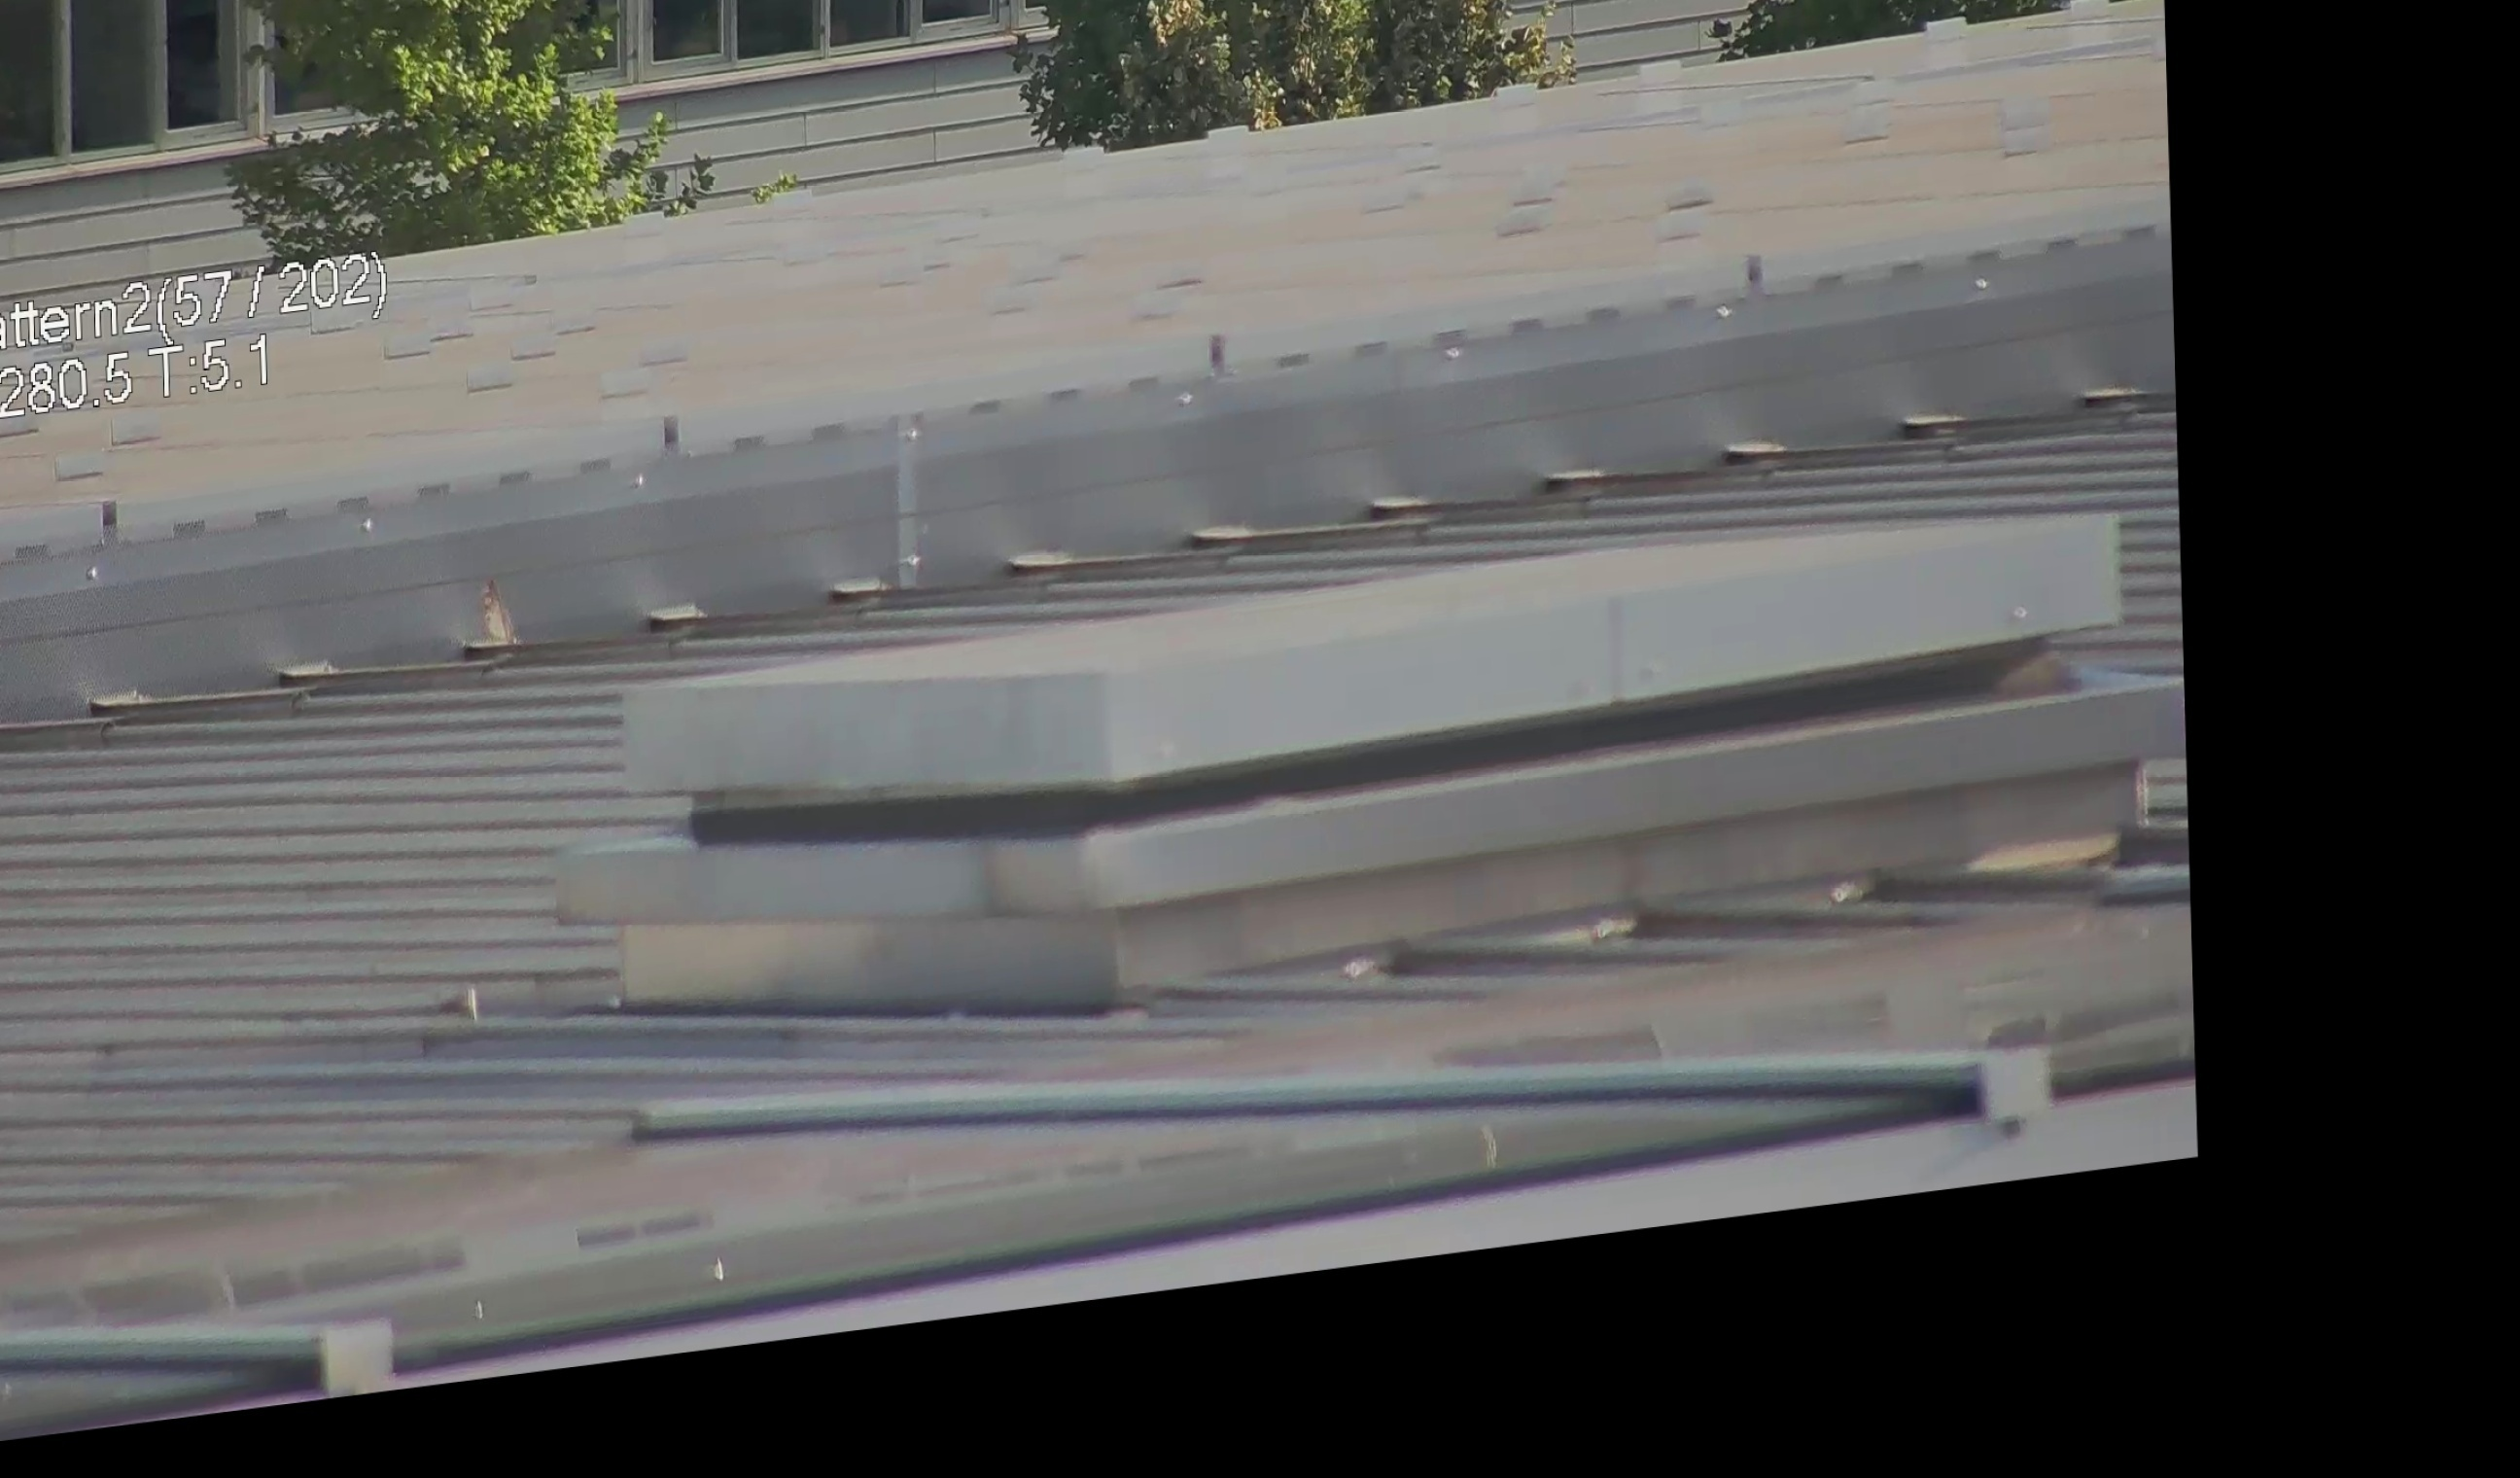Other: (447, 554, 517, 670)
